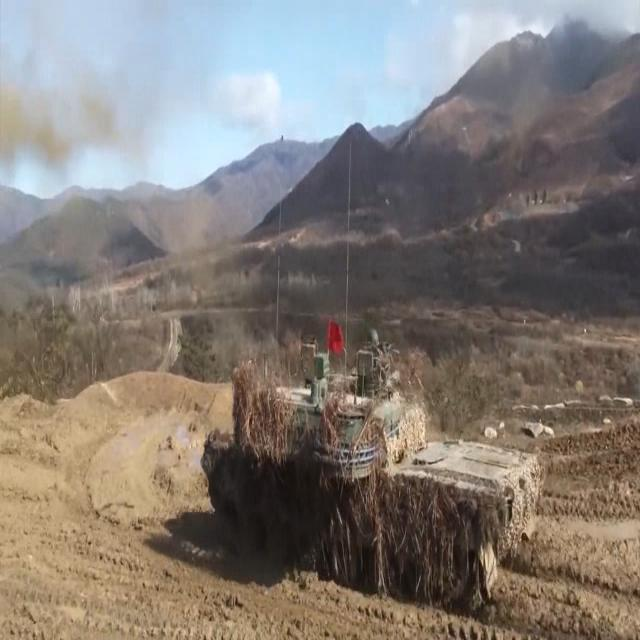korea tank: (200, 326, 542, 604)
